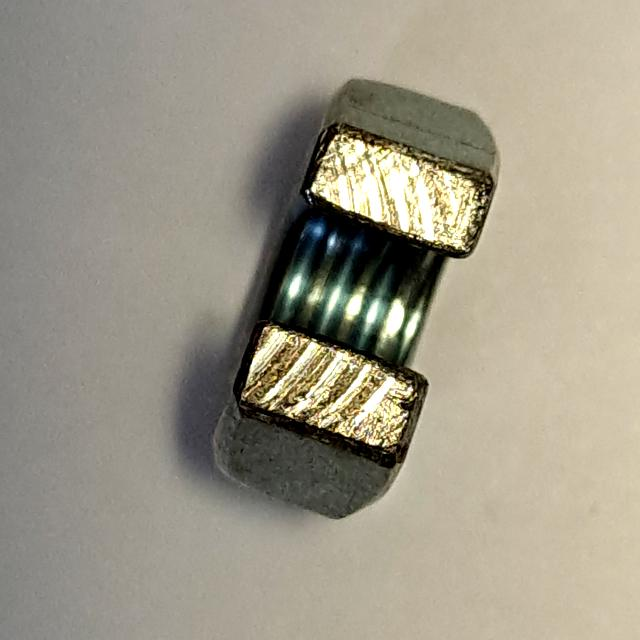Side-Fracture: (196, 57, 515, 536)
